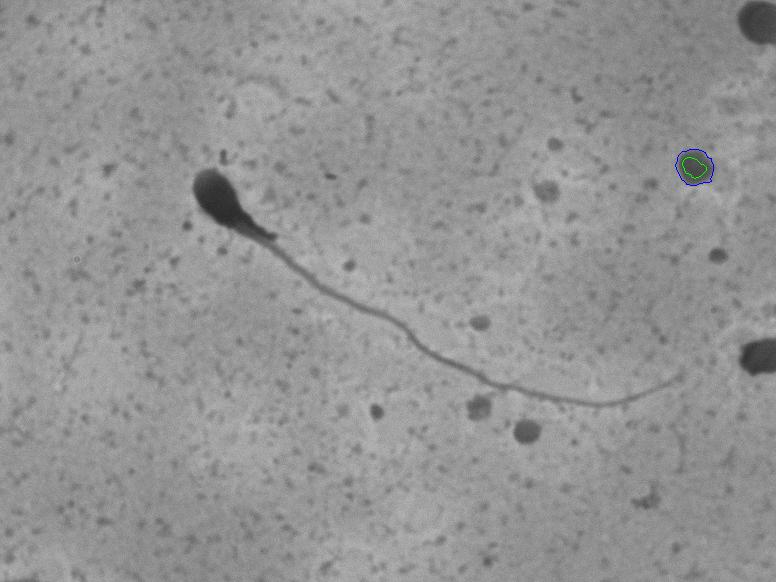Abnormal: (161, 145, 697, 423)
